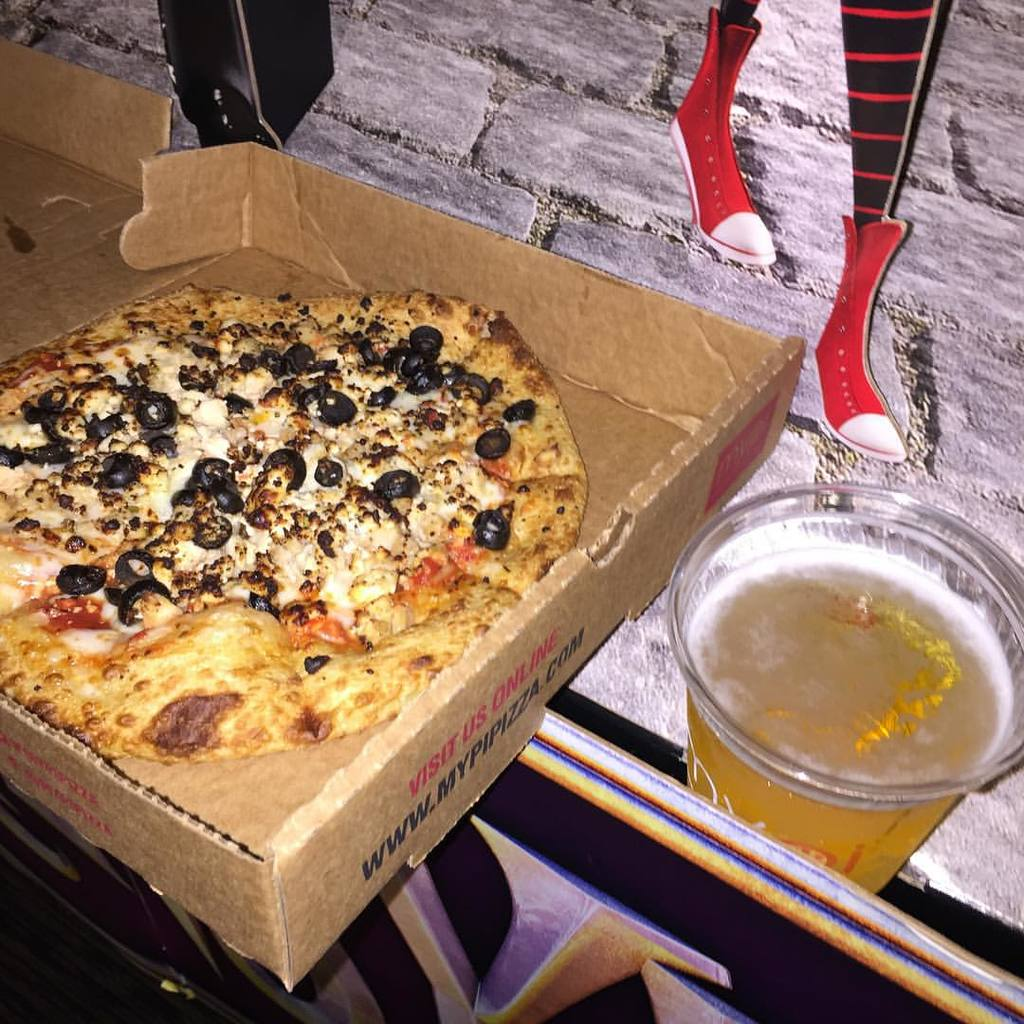Pizza: (0, 278, 605, 898)
